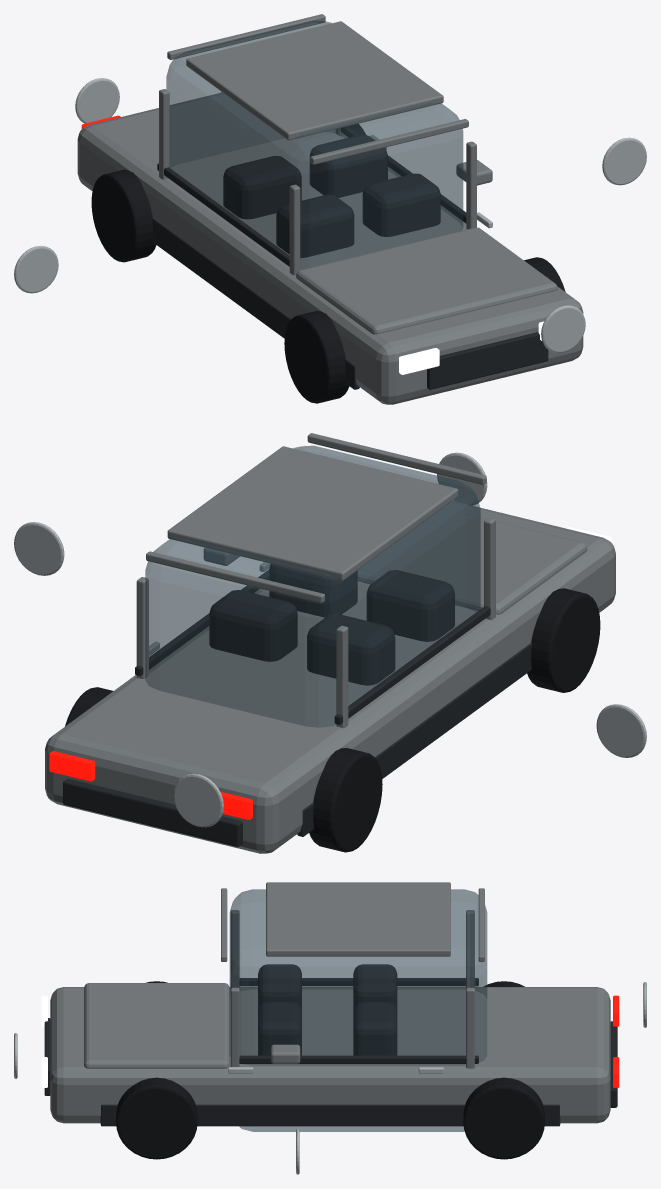
The model's file is delivery-van.glb.
3 views of the same model, one above another, from view 1: azimuth 30°, elevation 25°; view 2: azimuth 150°, elevation 25°; view 3: azimuth 270°, elevation 25° (orthographic). The views are drawn at different scales.
Visible parts, largest first — view 1: BATCH_01_MAT_CarPaint_delivery-van, BATCH_03_MAT_Glass, BATCH_00_MAT_BlackMetal, wheel_front_L.004, wheel_rear_L.004, hub_front_L.004, hub_rear_L.004, hub_front_R.004, hub_rear_R.004, BATCH_05_MAT_WhiteLight; view 2: BATCH_01_MAT_CarPaint_delivery-van, BATCH_03_MAT_Glass, BATCH_00_MAT_BlackMetal, wheel_rear_L.004, wheel_front_L.004, hub_rear_R.004, hub_front_R.004, hub_rear_L.004, BATCH_04_MAT_RedLight, hub_front_L.004, wheel_rear_R.004; view 3: BATCH_01_MAT_CarPaint_delivery-van, BATCH_03_MAT_Glass, BATCH_00_MAT_BlackMetal, wheel_front_R.004, wheel_rear_R.004, BATCH_04_MAT_RedLight.
Part boxes in pixels (box(x1,y1,x2,y2)): BATCH_01_MAT_CarPaint_delivery-van: box(77, 14, 583, 404); BATCH_03_MAT_Glass: box(166, 20, 463, 269); BATCH_00_MAT_BlackMetal: box(152, 126, 548, 389); wheel_front_L.004: box(284, 311, 349, 403); wheel_rear_L.004: box(91, 169, 156, 262); hub_front_L.004: box(541, 305, 585, 352); hub_rear_L.004: box(14, 245, 58, 293); hub_front_R.004: box(602, 137, 646, 185); hub_rear_R.004: box(75, 78, 119, 123); BATCH_05_MAT_WhiteLight: box(399, 321, 544, 374); BATCH_01_MAT_CarPaint_delivery-van: box(45, 433, 615, 853); BATCH_03_MAT_Glass: box(145, 445, 480, 727); BATCH_00_MAT_BlackMetal: box(63, 564, 531, 846); wheel_rear_L.004: box(309, 748, 382, 852); wheel_front_L.004: box(527, 588, 600, 692); hub_rear_R.004: box(173, 773, 223, 827); hub_front_R.004: box(14, 522, 64, 575); hub_rear_L.004: box(596, 704, 646, 757); BATCH_04_MAT_RedLight: box(49, 751, 252, 819); hub_front_L.004: box(437, 452, 487, 505); wheel_rear_R.004: box(65, 687, 113, 726); BATCH_01_MAT_CarPaint_delivery-van: box(50, 882, 610, 1123); BATCH_03_MAT_Glass: box(229, 889, 487, 1131); BATCH_00_MAT_BlackMetal: box(44, 964, 617, 1126); wheel_front_R.004: box(116, 1077, 197, 1159); wheel_rear_R.004: box(463, 1077, 544, 1159); BATCH_04_MAT_RedLight: box(613, 995, 619, 1087).
Bounding box in the file's own units: 5.92 × 2.02 × 6.04.
